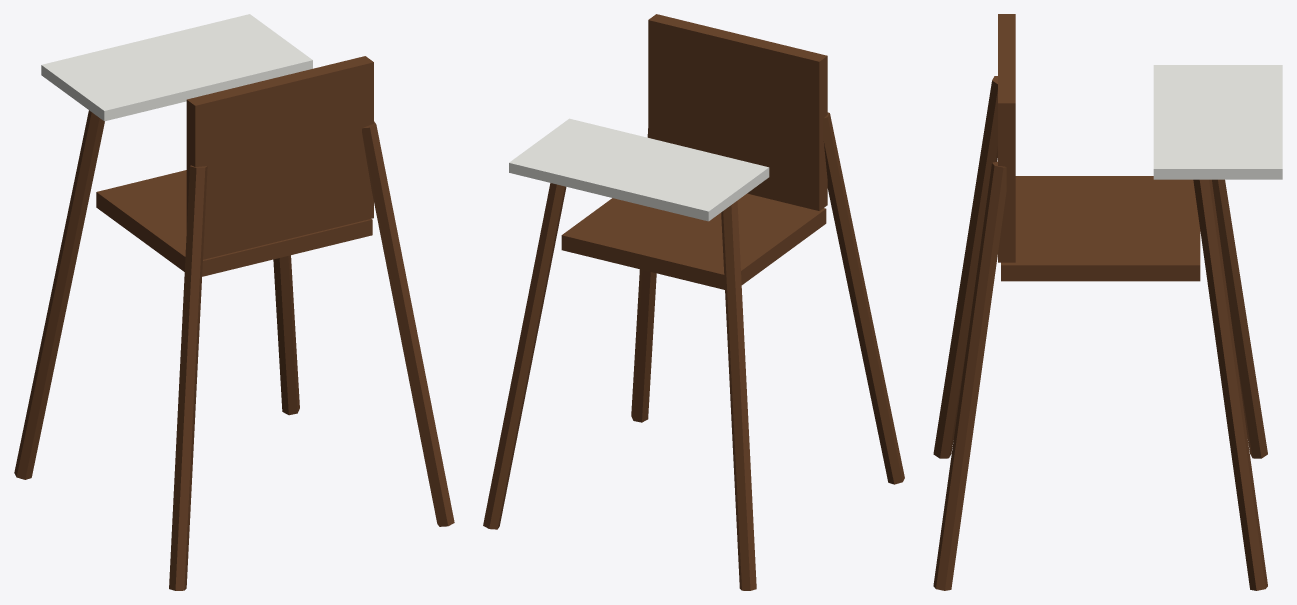
File: hospitality.restaurant.high_chair.glb
3 renders of one model, left to right at view 1: azimuth 30°, elevation 25°; view 2: azimuth 150°, elevation 25°; view 3: azimuth 270°, elevation 25°, orthographic. The views are drawn at different scales.
Visible parts, largest first — view 1: main__hardwood, main__paint_white; view 2: main__hardwood, main__paint_white; view 3: main__hardwood, main__paint_white.
Boxes of the visible parts, x1=… form: main__hardwood: x1=14, y1=56, x2=454, y2=590; main__paint_white: x1=41, y1=14, x2=312, y2=121; main__hardwood: x1=483, y1=14, x2=904, y2=590; main__paint_white: x1=509, y1=118, x2=769, y2=221; main__hardwood: x1=933, y1=14, x2=1267, y2=590; main__paint_white: x1=1153, y1=65, x2=1282, y2=179.
Bounding box in the file's own units: 0.5707 × 0.873 × 0.5954.
